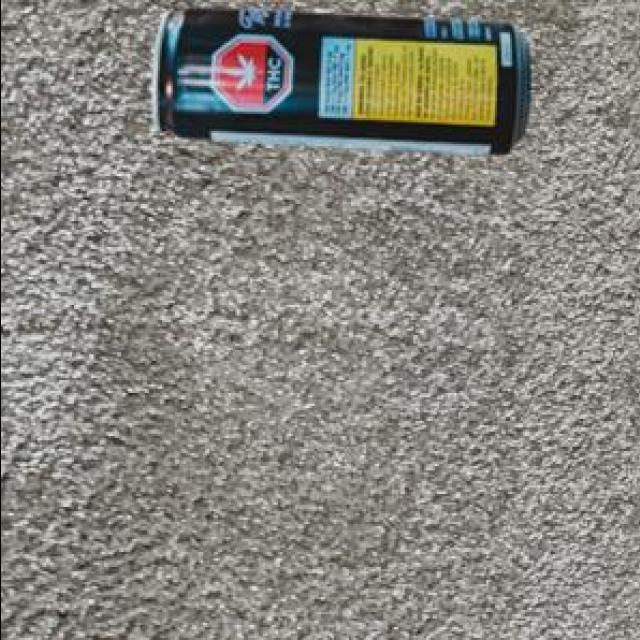logam: (156, 5, 534, 151)
